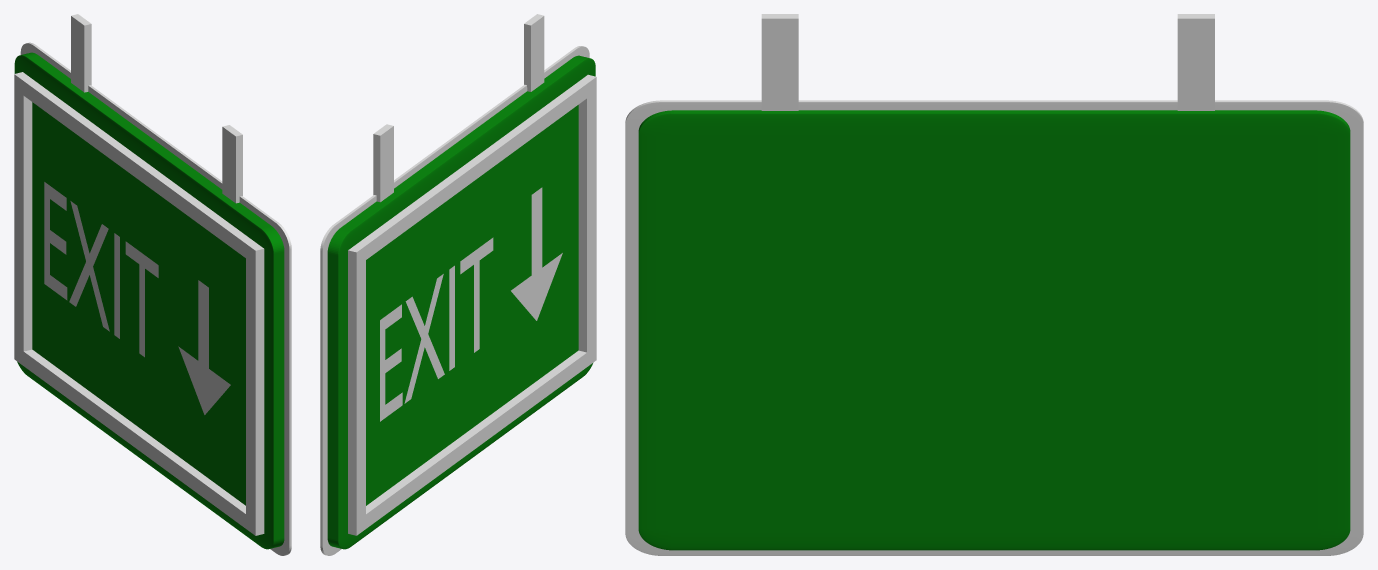
The model's file is Exit down.fbx.
3 views of the same model, side by side, from view 1: azimuth 30°, elevation 25°; view 2: azimuth 150°, elevation 25°; view 3: azimuth 270°, elevation 25° (orthographic). The views are drawn at different scales.
Parts seen in each view (by area): view 1: Cube.213, Cube.214, Cube.215, Text.002, Cube.220, Cube.221, Plane.005, Plane.004; view 2: Cube.213, Cube.214, Cube.215, Text.002, Cube.220, Cube.221, Plane.005, Plane.004; view 3: Cube.213, Cube.215, Cube.220, Cube.221.
Boxes of the visible parts, bbox=[...] form: Cube.213: bbox=[14, 52, 284, 549]; Cube.214: bbox=[14, 72, 264, 535]; Cube.215: bbox=[20, 42, 291, 555]; Text.002: bbox=[44, 182, 158, 357]; Cube.220: bbox=[71, 14, 91, 92]; Cube.221: bbox=[222, 125, 242, 203]; Plane.005: bbox=[178, 346, 230, 414]; Plane.004: bbox=[198, 280, 208, 369]; Cube.213: bbox=[327, 55, 595, 549]; Cube.214: bbox=[348, 74, 596, 535]; Cube.215: bbox=[320, 46, 589, 555]; Text.002: bbox=[380, 237, 493, 421]; Cube.220: bbox=[373, 124, 393, 202]; Cube.221: bbox=[524, 14, 544, 91]; Plane.005: bbox=[511, 253, 562, 320]; Plane.004: bbox=[531, 187, 542, 276]; Cube.213: bbox=[638, 110, 1350, 550]; Cube.215: bbox=[625, 100, 1363, 555]; Cube.220: bbox=[1177, 14, 1214, 110]; Cube.221: bbox=[761, 14, 798, 110].
Bounding box in the file's own units: 10.34 × 139 × 173.
